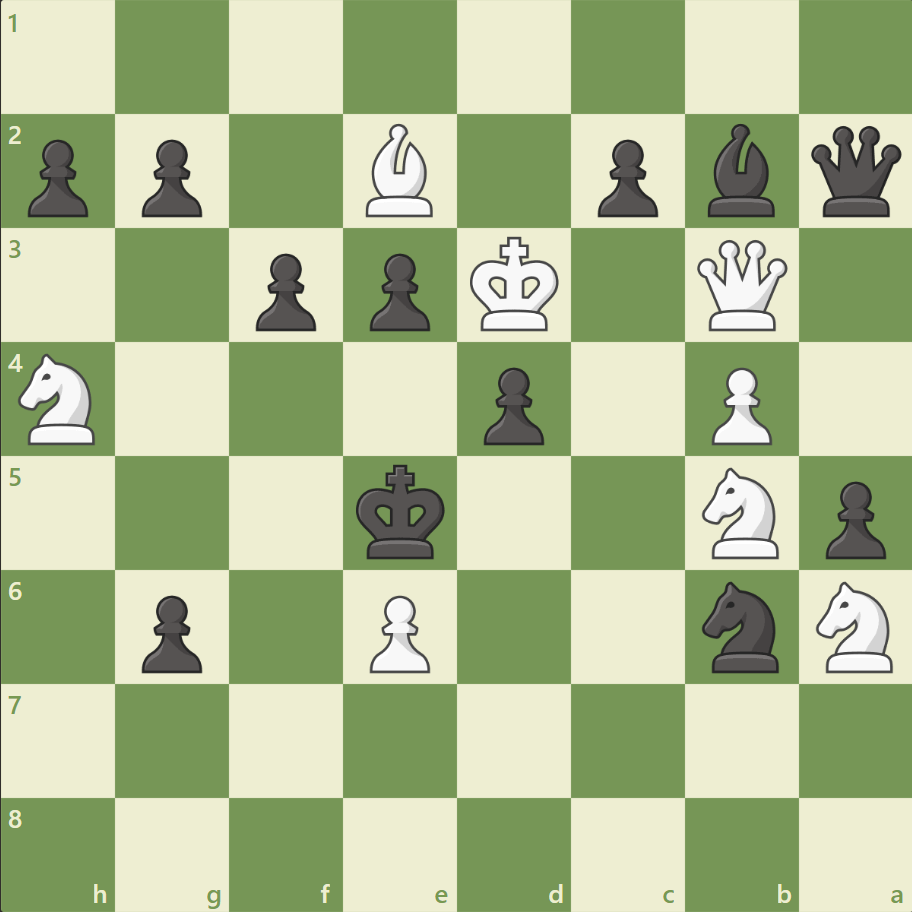B: (358, 120, 442, 222)
K: (465, 231, 565, 339)
N: (692, 461, 789, 564), (806, 575, 903, 677), (11, 348, 108, 450)
P: (701, 359, 776, 450), (361, 586, 435, 677)
Q: (691, 236, 790, 335)
b: (698, 120, 782, 222)
k: (351, 458, 451, 566)
n: (692, 575, 789, 677)
p: (133, 586, 208, 677), (474, 359, 549, 450), (247, 246, 322, 337), (133, 132, 208, 223), (20, 132, 95, 223), (815, 473, 889, 564), (361, 246, 435, 337), (588, 132, 662, 223)
q: (805, 122, 904, 222)
